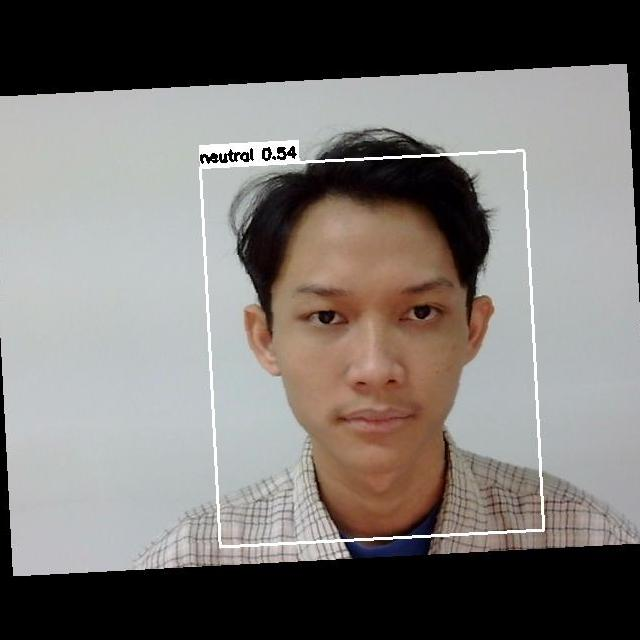Natural: (285, 270, 484, 442)
